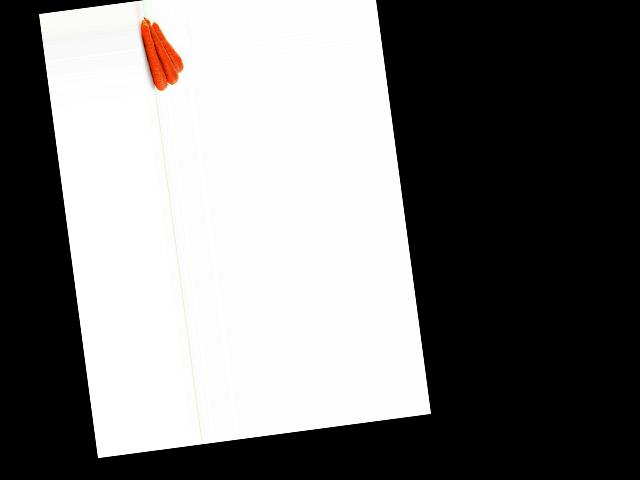carrot: (136, 18, 169, 95)
